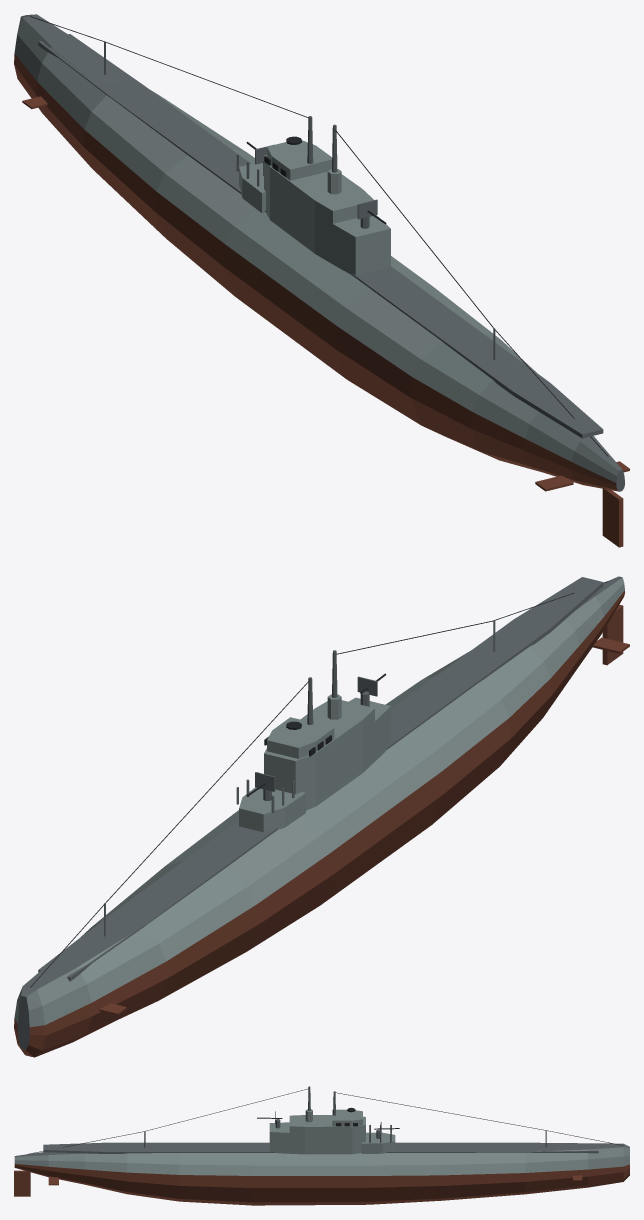
Rendered from shchuka.glb.
The picture shows the model from 3 angles, top to bottom: view 1: azimuth 30°, elevation 25°; view 2: azimuth 150°, elevation 25°; view 3: azimuth 270°, elevation 25°; orthographic projection. The views are drawn at different scales.
Visible parts, largest first — view 1: Hull, Casing deck, Fairwater, Gun step aft, Bridge, Rudder, Gun step fwd; view 2: Hull, Casing deck, Fairwater, Gun step fwd, Bridge, Gun step aft, Rudder; view 3: Hull, Casing deck, Fairwater, Gun step aft, Gun step fwd, Rudder, Bridge, Jumping wire fwd.
Part boxes in pixels (bbox=[...]): Hull: bbox=[14, 14, 624, 491]; Casing deck: bbox=[38, 34, 603, 438]; Fairwater: bbox=[264, 155, 373, 264]; Gun step aft: bbox=[333, 215, 390, 275]; Bridge: bbox=[267, 140, 332, 180]; Rudder: bbox=[602, 489, 623, 547]; Gun step fwd: bbox=[239, 163, 265, 213]; Hull: bbox=[14, 576, 624, 1057]; Casing deck: bbox=[38, 577, 603, 981]; Fairwater: bbox=[264, 700, 374, 810]; Gun step fwd: bbox=[239, 787, 305, 832]; Bridge: bbox=[267, 717, 334, 758]; Gun step aft: bbox=[349, 697, 390, 761]; Rudder: bbox=[602, 604, 623, 665]; Hull: bbox=[14, 1143, 629, 1205]; Casing deck: bbox=[43, 1142, 598, 1153]; Fairwater: bbox=[289, 1115, 365, 1154]; Gun step aft: bbox=[269, 1122, 289, 1153]; Gun step fwd: bbox=[361, 1132, 395, 1153]; Rudder: bbox=[14, 1170, 30, 1196]; Bridge: bbox=[332, 1109, 362, 1126]; Jumping wire fwd: bbox=[335, 1092, 545, 1130].
Bounding box in the file's own units: 6.2 × 12.08 × 58.8.
